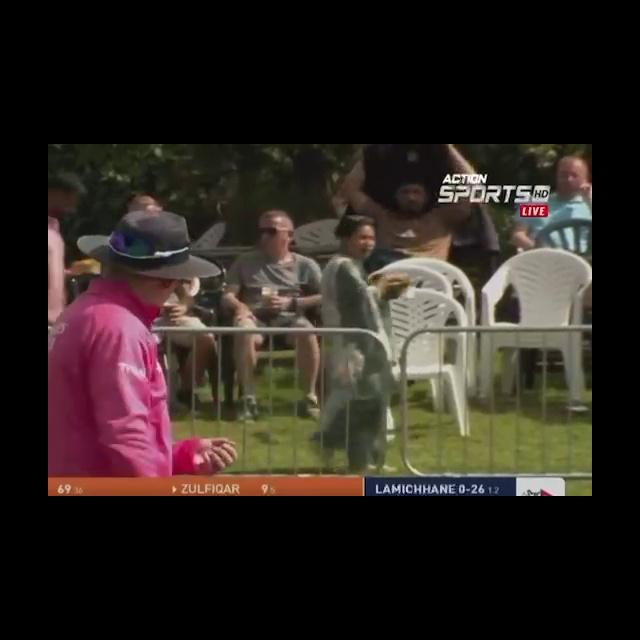umpire: (54, 187, 293, 467)
